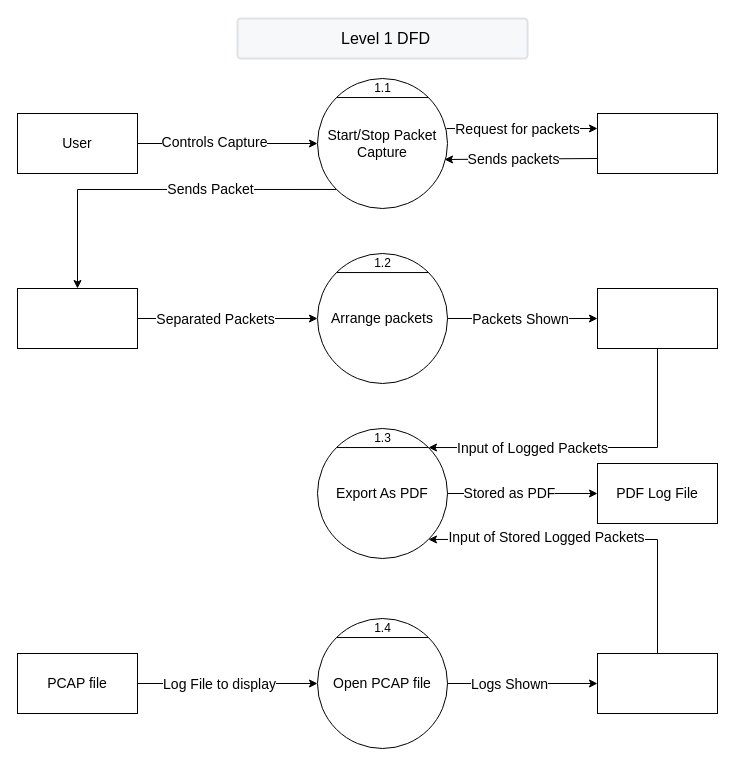
Image size: 735x766. Some labels were removed from this diagram. Each missing label, with the centre of its shape:
Display Interface: (657,318)
Display Window: (657,683)
Network Interface: (657,143)
Packet Analyser: (77,318)
